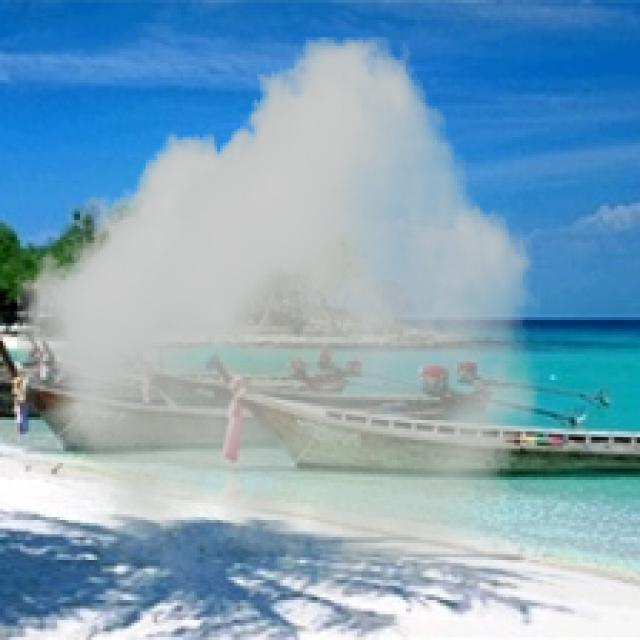Smoke: (17, 37, 540, 594)
